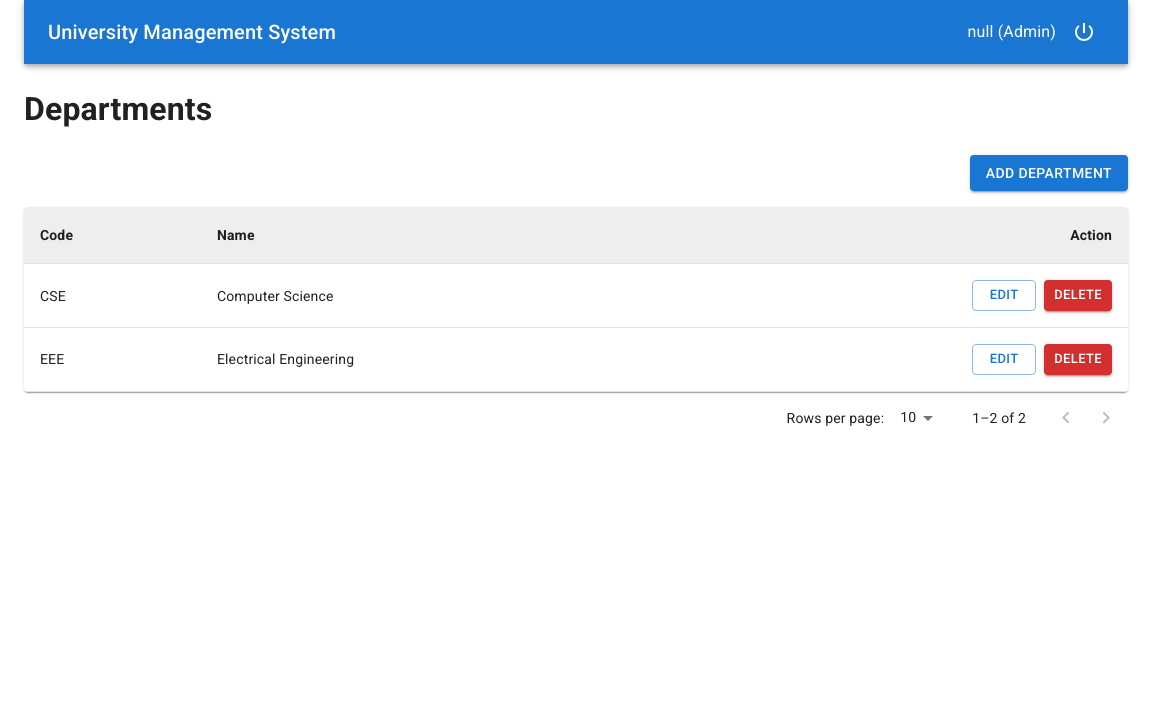
Test: DepartmentPage › sends DELETE to the correct URL, refreshes table, and shows success snackbar
The width and height of the screenshot is (1152, 720).
Expected: the text "Computer Science" is shown, x1=201 y1=264 x2=661 y2=328
Click the button "Delete" in the row of "CSE": (1078, 296) x1=1044 y1=280 x2=1112 y2=311
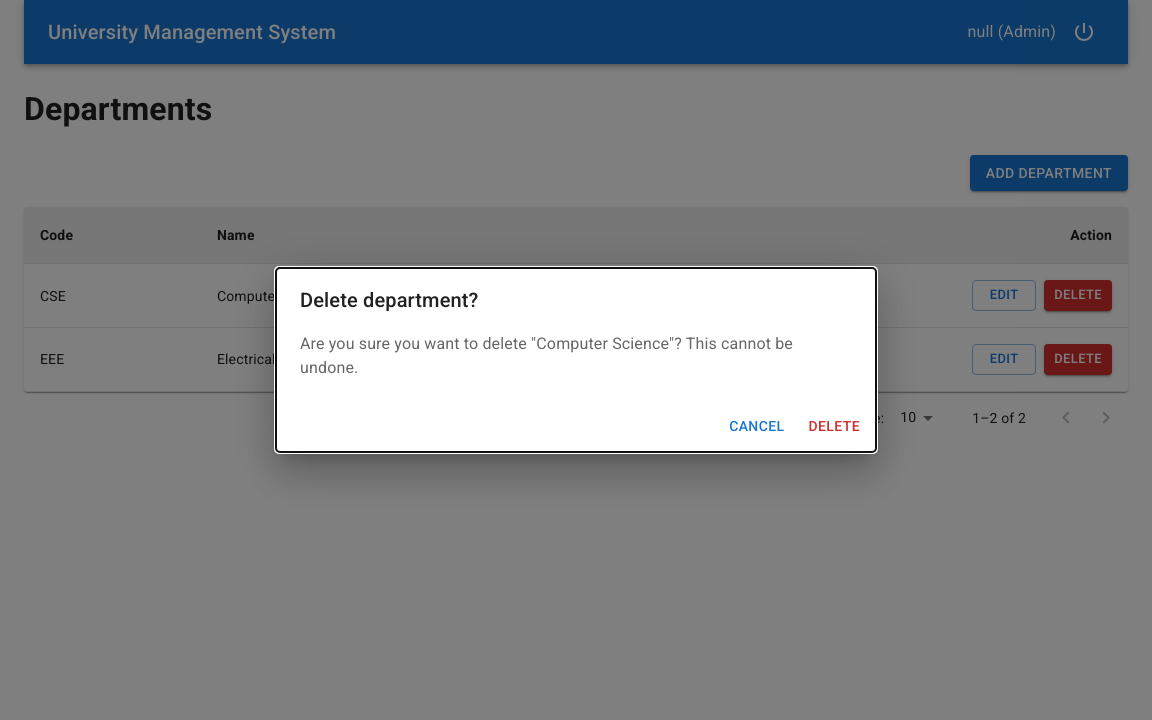
Now the heading "Delete department?" is shown, box x1=300 y1=288 x2=478 y2=312
Click the button "Delete": (834, 426) x1=800 y1=408 x2=868 y2=444
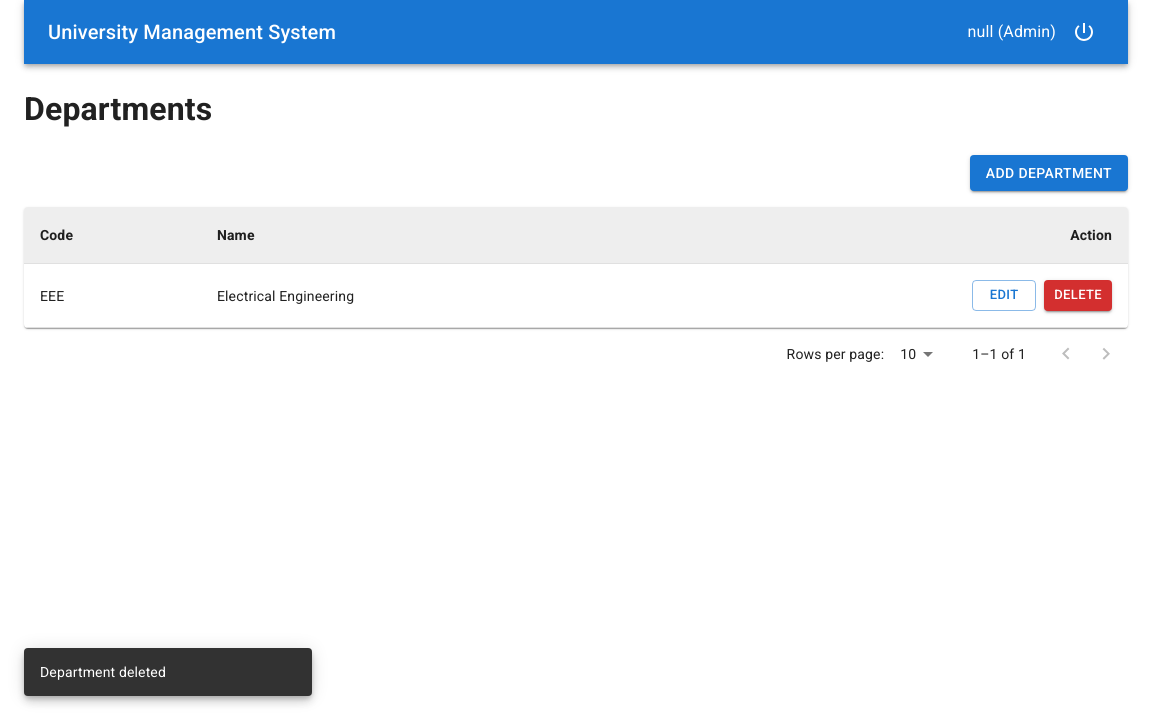
Expected: the text "Electrical Engineering" is shown, x1=201 y1=264 x2=661 y2=328
Now the text "Department deleted" is shown, box x1=40 y1=664 x2=166 y2=680
Now the text "Computer Science" is gone
